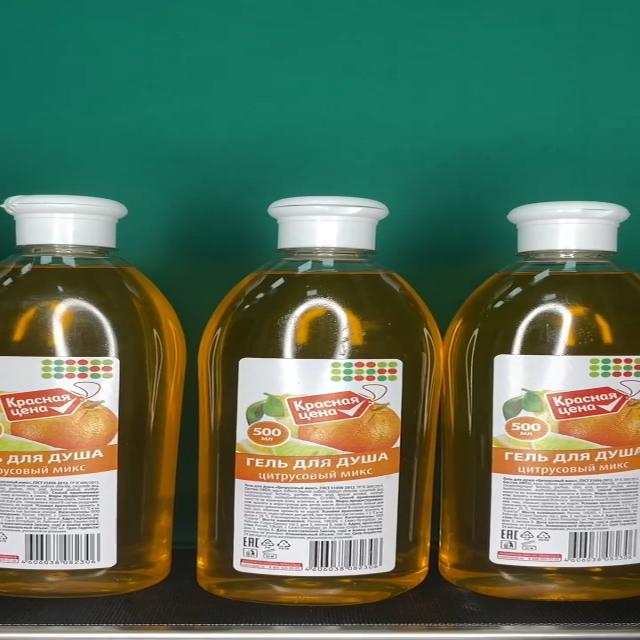Bottle: (198, 195, 443, 605), (442, 200, 640, 602), (0, 194, 187, 597)
Cap: (4, 194, 128, 248), (507, 201, 632, 253), (268, 196, 390, 249)
